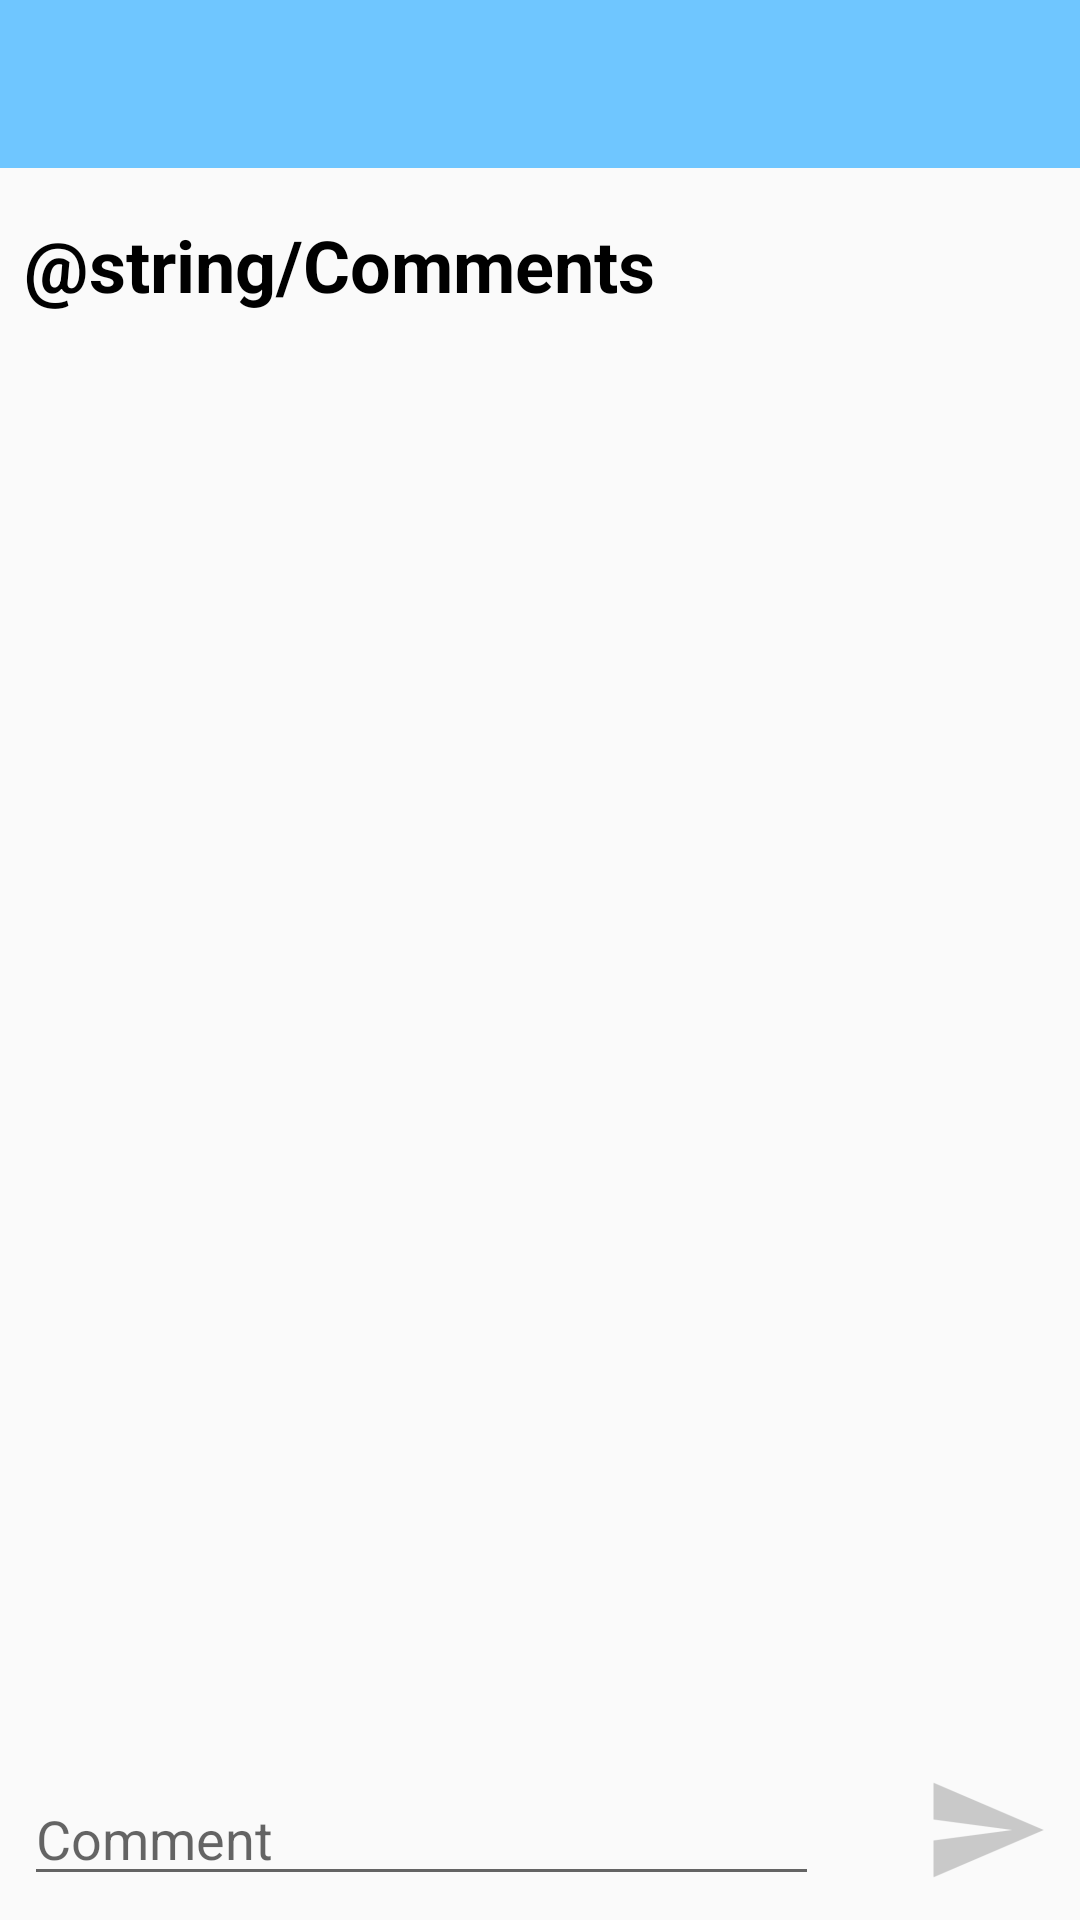

Screen size 1080 x 1920. Icon name, then its center in pixels as (x,y):
send: (988,1830)
